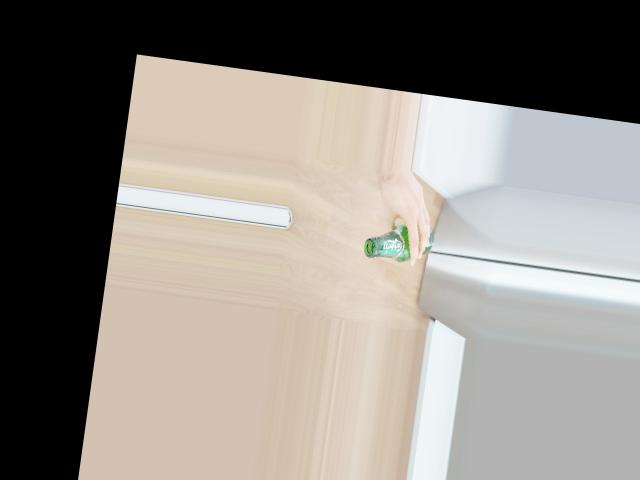beer: (362, 218, 434, 265)
